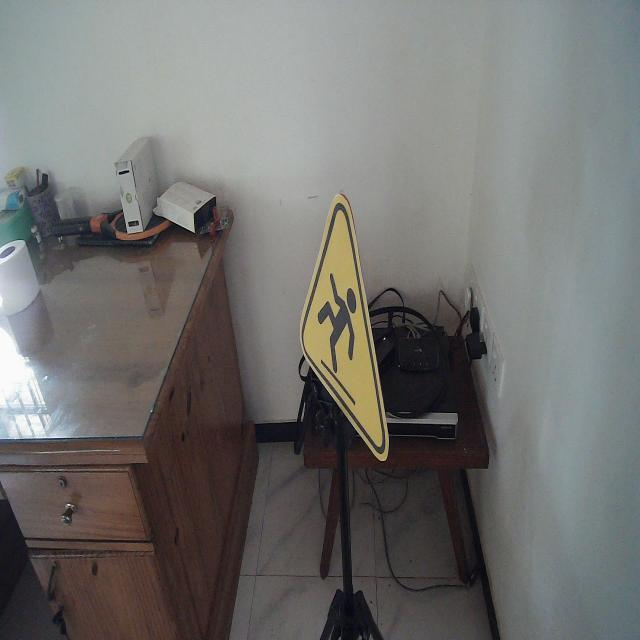slippery_sign: (297, 188, 392, 466)
